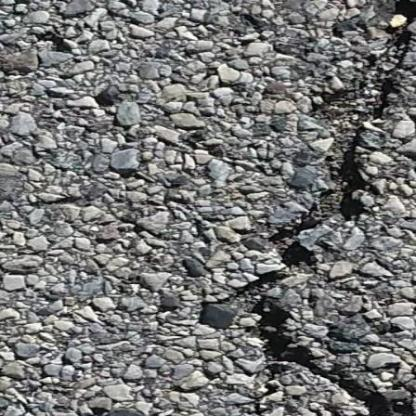Cracks: (173, 236, 416, 416), (270, 0, 416, 295)
